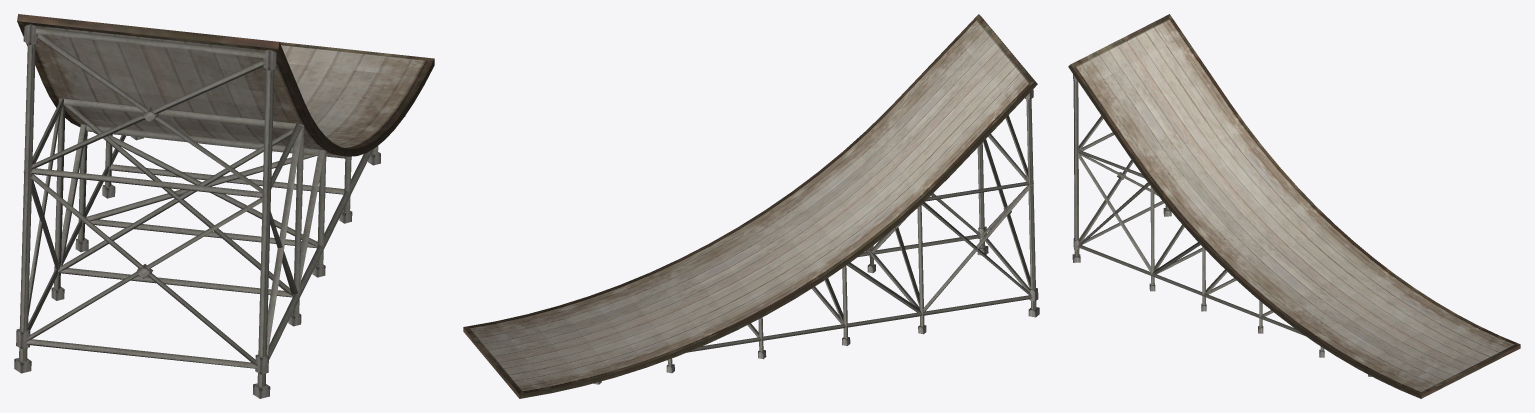
File: arena.ico.obj
3 views of the same model, side by side, from view 1: azimuth 30°, elevation 25°; view 2: azimuth 150°, elevation 25°; view 3: azimuth 270°, elevation 25° (orthographic). The views are drawn at different scales.
Size of the model in its own units: 3.81 by 2.1 by 4.12.
Materials: 1 (1 with a texture image).
